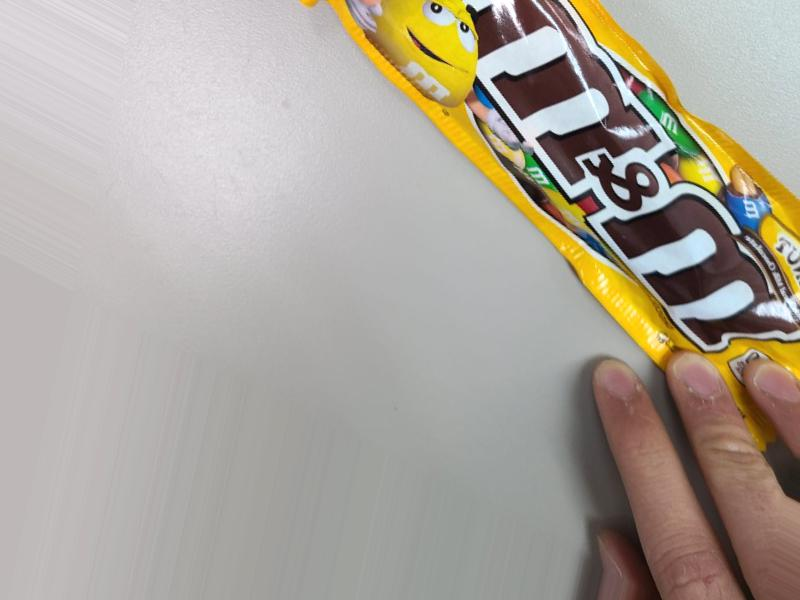m&m: (266, 65, 698, 462)
